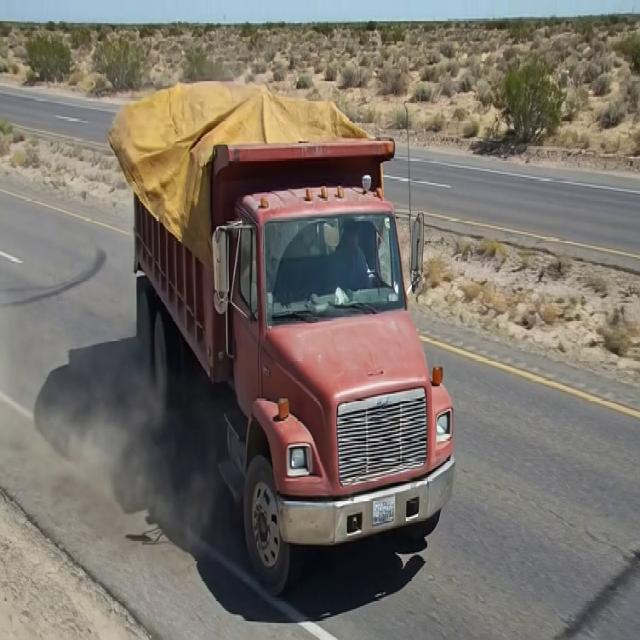trailer: (109, 87, 399, 168)
truck: (96, 69, 458, 548)
